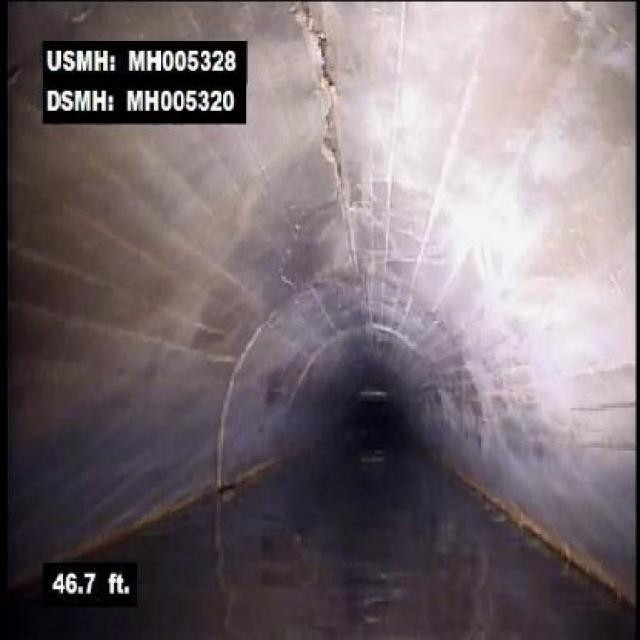Buckling: (286, 2, 352, 190)
